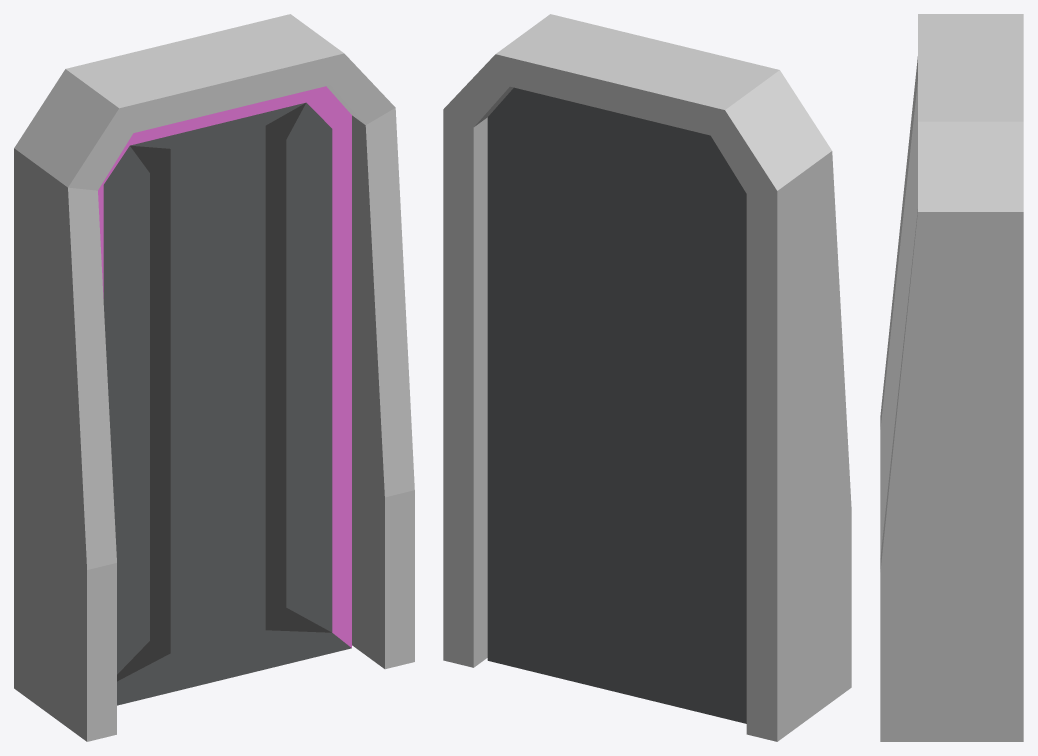
Rendered from Bar_Door.fbx.
3 renders of one model, left to right at view 1: azimuth 30°, elevation 25°; view 2: azimuth 150°, elevation 25°; view 3: azimuth 270°, elevation 25°, orthographic. The views are drawn at different scales.
Parts seen in each view (by area): view 1: Bar_Door; view 2: Bar_Door; view 3: Bar_Door.
Part boxes in pixels (x1=…): Bar_Door: x1=14, y1=14, x2=414, y2=741; Bar_Door: x1=443, y1=14, x2=851, y2=741; Bar_Door: x1=880, y1=14, x2=1023, y2=741.
Bounding box in the file's own units: 133 × 236 × 51.15.
